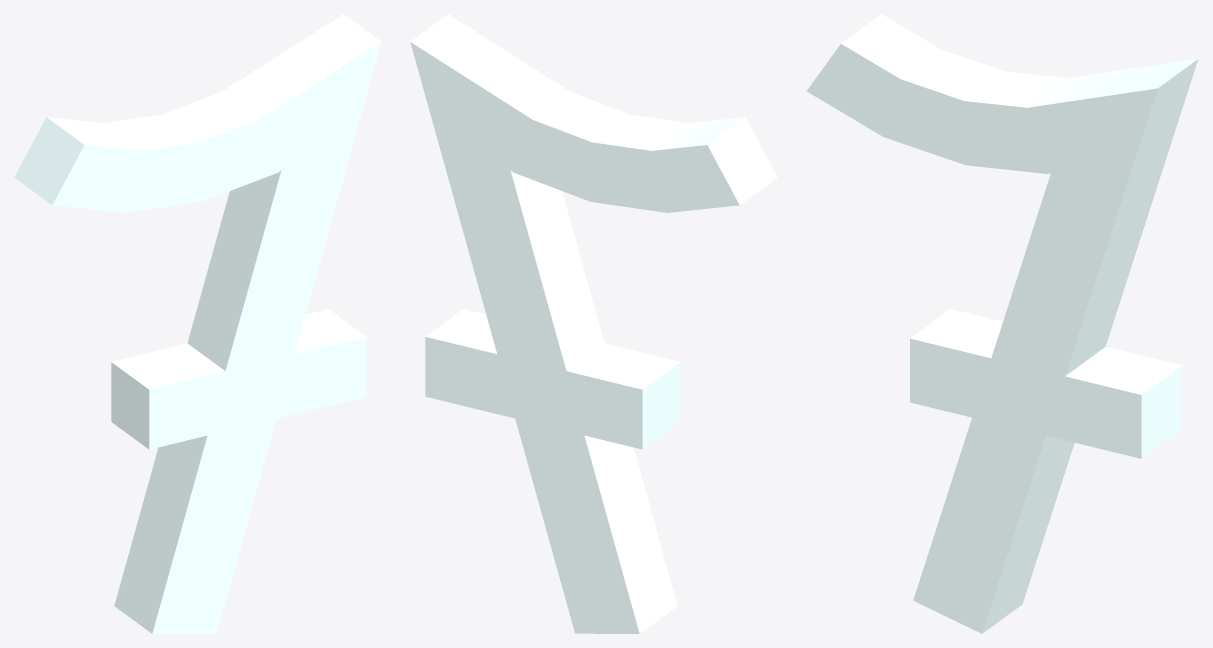
3 views of the same model, side by side, from view 1: azimuth 30°, elevation 25°; view 2: azimuth 150°, elevation 25°; view 3: azimuth 330°, elevation 25° (orthographic). The views are drawn at different scales.
Parts seen in each view (by area): view 1: wall_1_1_1_13_19.001; view 2: wall_1_1_1_13_19.001; view 3: wall_1_1_1_13_19.001.
Part boxes in pixels (<box>): wall_1_1_1_13_19.001: <box>14,14,381,633</box>; wall_1_1_1_13_19.001: <box>410,14,777,633</box>; wall_1_1_1_13_19.001: <box>806,14,1198,633</box>.
Bounding box in the file's own units: 3.52 × 5.63 × 0.7034.
